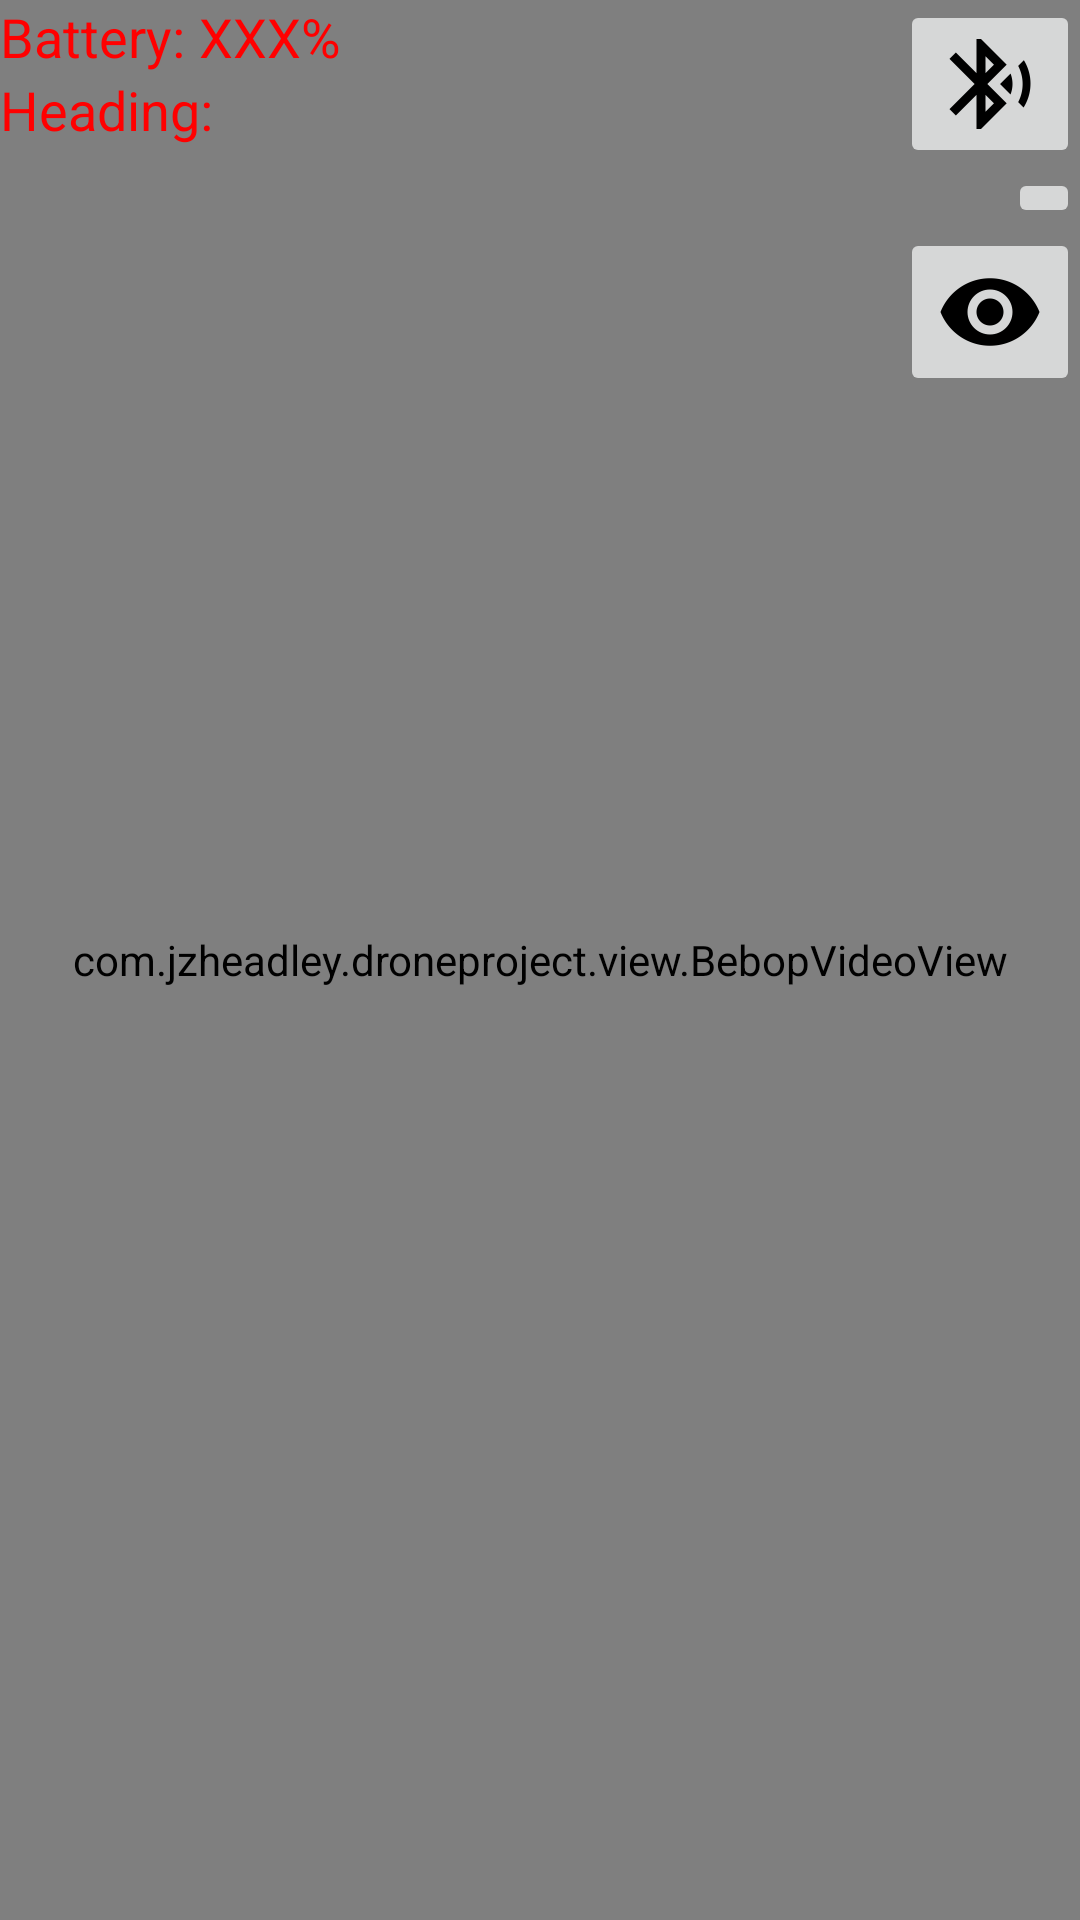

Icon bounding boxes for this 1080w x 1920h phone screenshot, format (x1, y1, x2, y2):
eye: (912, 246, 1068, 378)
